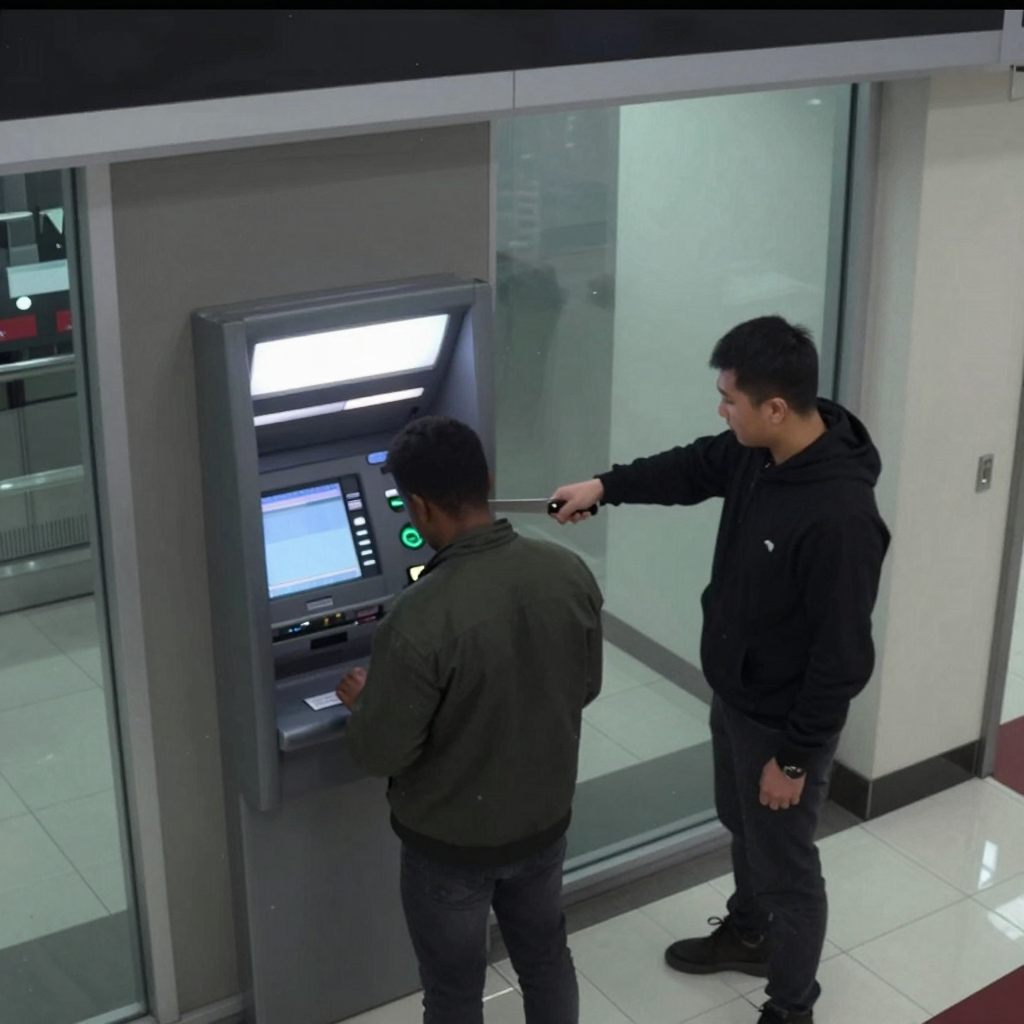Assault: (477, 492, 601, 526)
Robbery: (547, 313, 891, 1024), (335, 415, 604, 1024)
